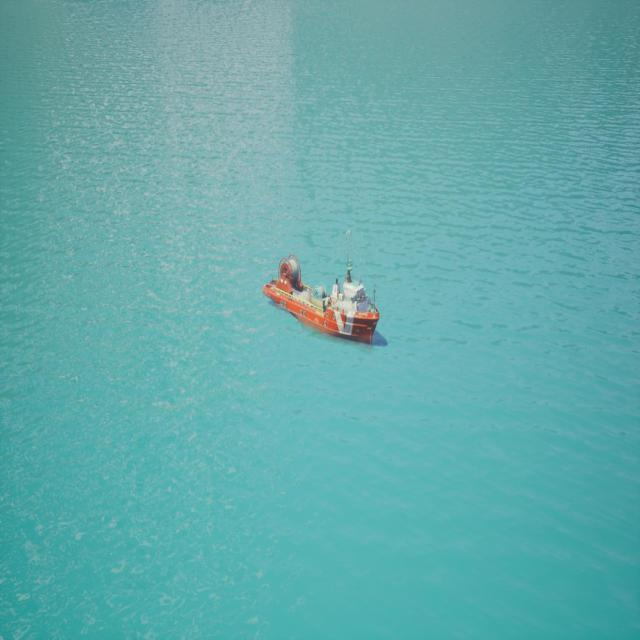tug boat: (263, 258, 384, 348)
